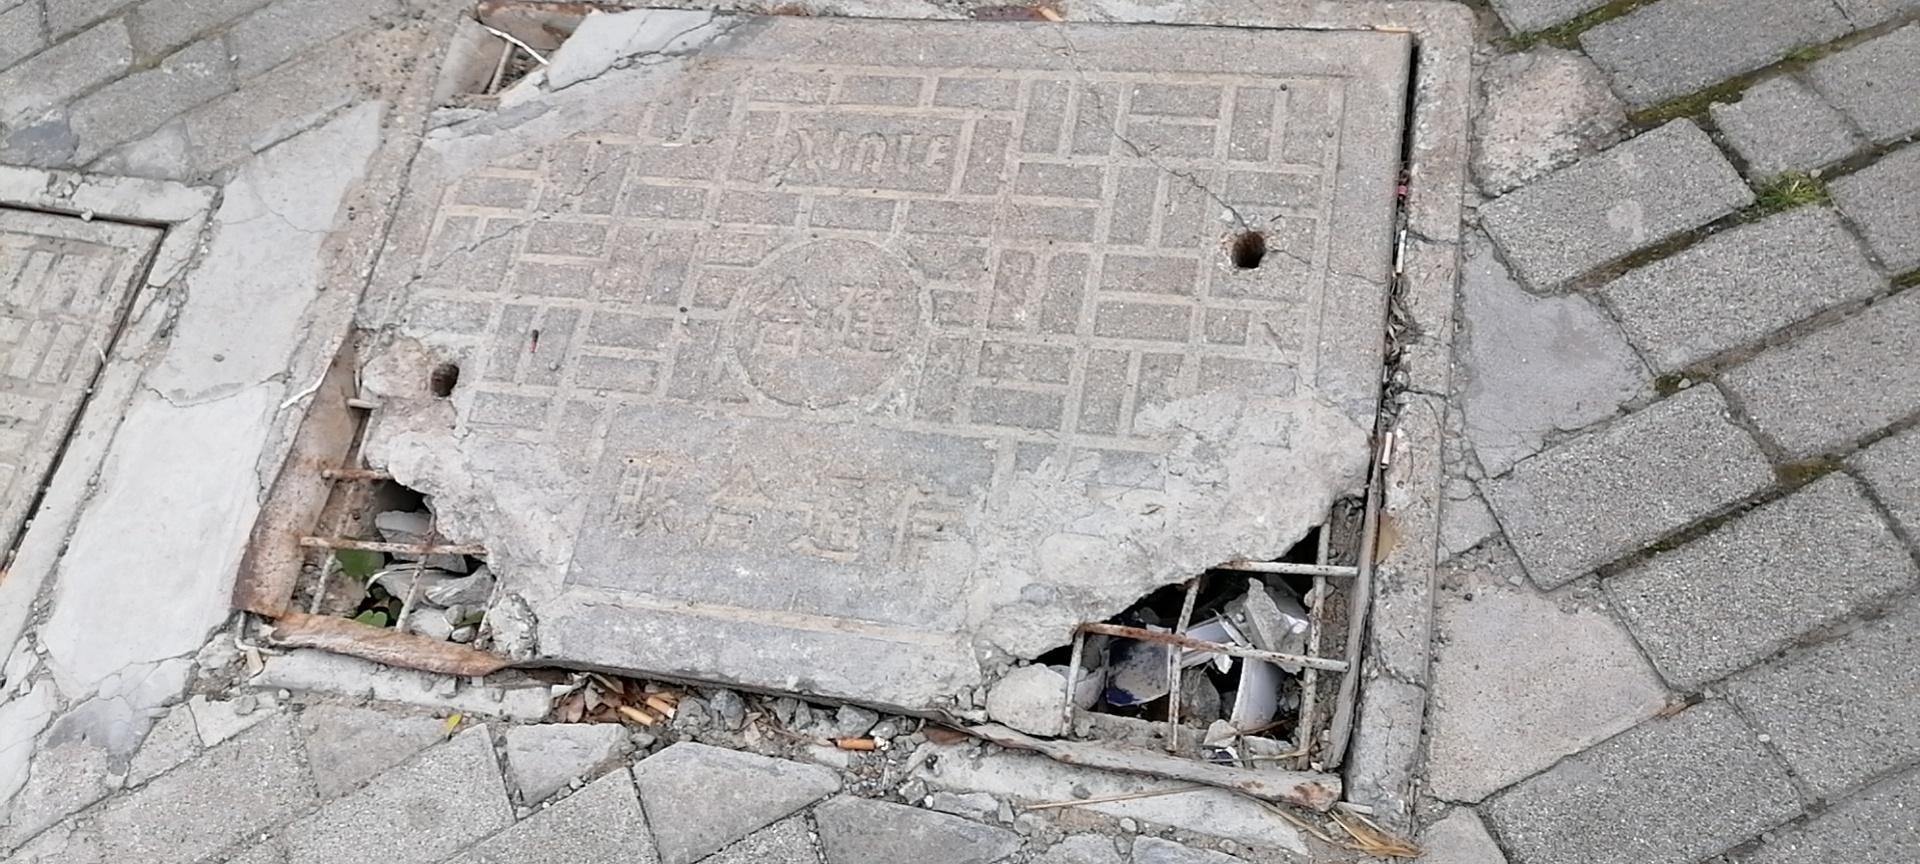wellcover: (247, 0, 1483, 858)
